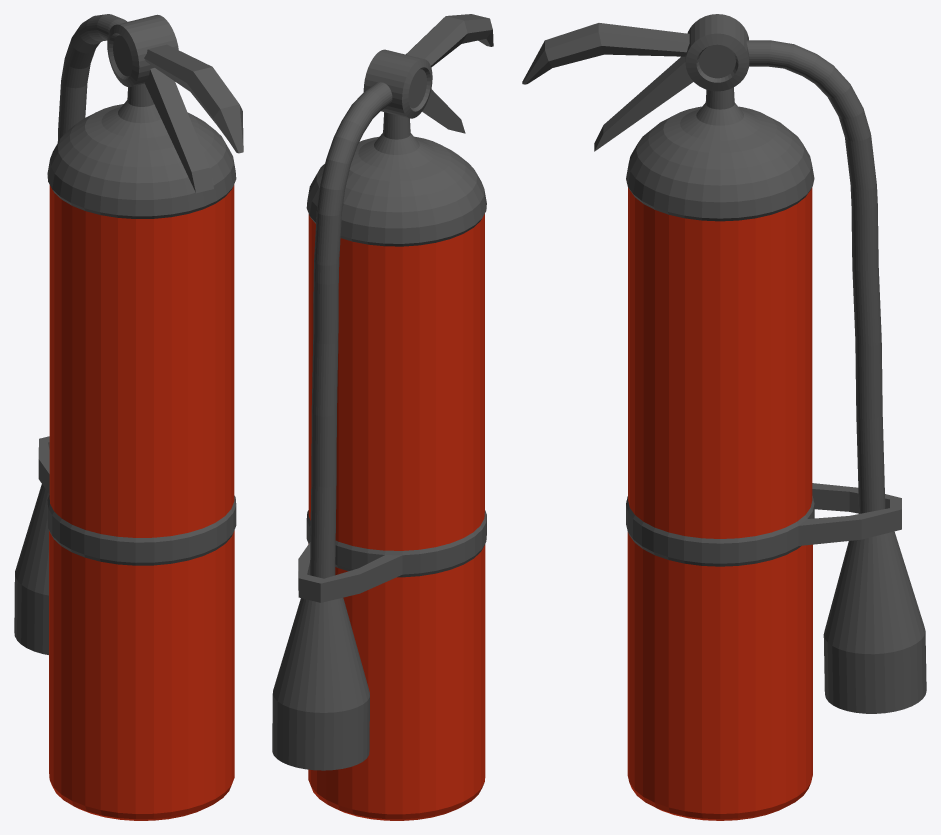
File: DebrisExtinguisher.fbx
The picture shows the model from 3 angles, left to right: view 1: azimuth 30°, elevation 25°; view 2: azimuth 150°, elevation 25°; view 3: azimuth 270°, elevation 25°; orthographic projection. The views are drawn at different scales.
Visible parts, largest first — view 1: Cylinder; view 2: Cylinder; view 3: Cylinder.
Part boxes in pixels (bbox=[...]): Cylinder: bbox=[14, 14, 243, 820]; Cylinder: bbox=[272, 14, 493, 820]; Cylinder: bbox=[522, 14, 926, 820].
Size of the model in its own units: 27.45 by 123 by 58.85.
